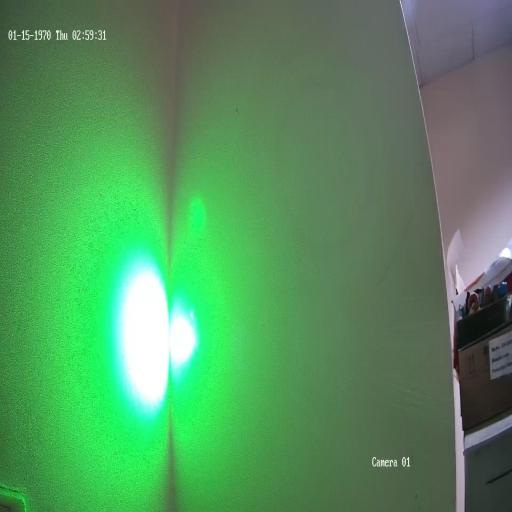laser: (93, 210, 220, 429)
